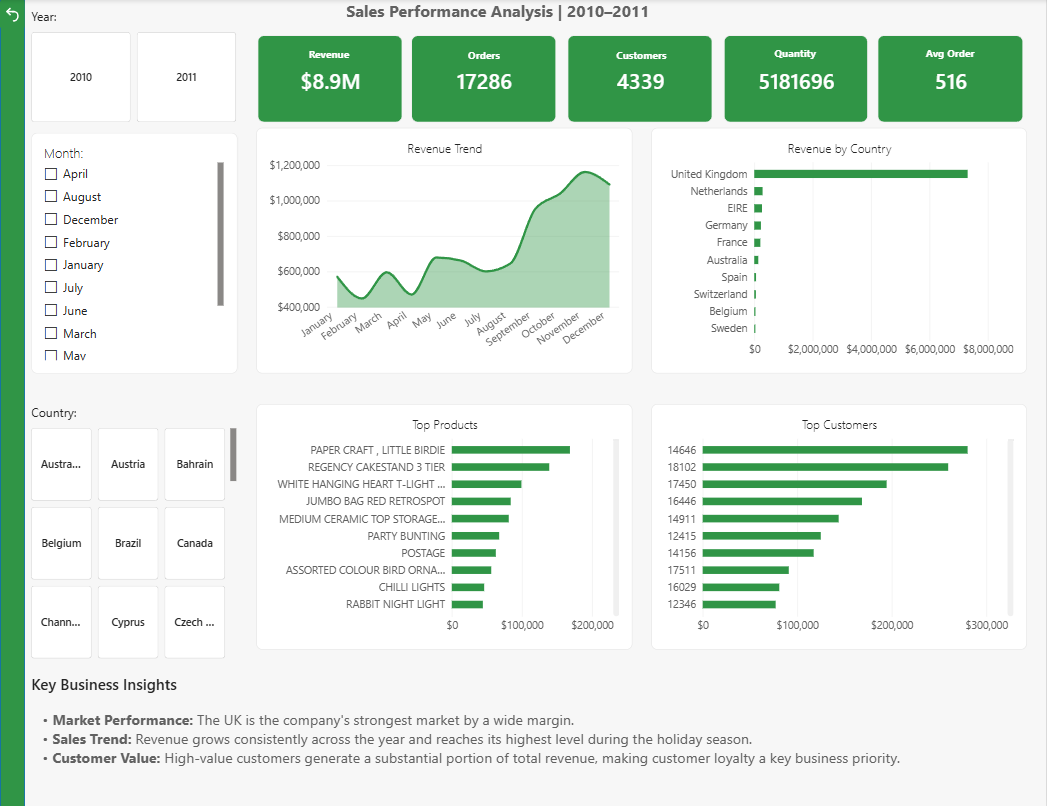

This screenshot's page, from the dashboard's own definition file:
{"tool":"powerbi","page":{"name":"E-Commerce Sales Executive Dashboard","canvas":[1380,1066],"ordinal":0},"visuals":[{"type":"shape","box":[0,0,32.9,1065.7],"z":0},{"type":"cardVisual","fields":{"Data":["Measure.Total revenue"]},"box":[338.8,47.5,191.2,115],"z":1000},{"type":"textbox","box":[355,62.5,158.8,25],"z":2000},{"type":"cardVisual","fields":{"Data":["Measure.Total order"]},"box":[542.9,47.1,191.8,115.8],"z":3000},{"type":"textbox","box":[558.8,63.8,158.8,23.8],"z":4000},{"type":"cardVisual","fields":{"Data":["Measure.Total Customers"]},"box":[748.8,47.5,191.2,115],"z":5000},{"type":"textbox","box":[766.2,63.8,158.8,25],"z":6000},{"type":"cardVisual","fields":{"Data":["Measure.Total Quantity Sold"]},"box":[953.8,47.5,190,115],"z":7000},{"type":"textbox","box":[968.8,61.2,158.8,25],"z":8000},{"type":"cardVisual","fields":{"Data":["Measure.Avarege Order Value"]},"box":[1157.5,47.5,192.5,115],"z":9000},{"type":"textbox","box":[1173.8,61.2,158.8,25],"z":10000},{"type":"areaChart","title":"Revenue Trend","fields":{"Category":["data.InvoiceDate.Variation.Date Hierarchy.Year","data.InvoiceDate.Variation.Date Hierarchy.Quarter","data.InvoiceDate.Variation.Date Hierarchy.Month","data.InvoiceDate.Variation.Date Hierarchy.Day"],"Y":["Measure.Total revenue"]},"box":[337.8,170.3,495.9,324.3],"z":11000},{"type":"barChart","title":"Revenue by Country","fields":{"Category":["data.Country"],"Y":["Measure.Total revenue"]},"box":[859.5,170.3,495,324.3],"z":12000},{"type":"barChart","title":"Top Products","fields":{"Category":["data.Description"],"Y":["Measure.Total revenue"]},"box":[337.8,533.8,495.9,324],"z":13000},{"type":"barChart","title":"Top Customers","fields":{"Category":["data.CustomerID"],"Y":["Measure.Total revenue"]},"box":[859.5,533.8,495,324],"z":14000},{"type":"advancedSlicerVisual","title":"Year:","fields":{"Values":["data.Year"]},"box":[40.5,10.8,271.6,151.4],"z":15000},{"type":"listSlicer","title":"Month:","fields":{"Values":["data.Month Name"]},"box":[40.5,177,271.6,317.6],"z":16000},{"type":"advancedSlicerVisual","title":"Country:","fields":{"Values":["data.Country"]},"box":[41.9,533.8,270.3,336.5],"z":17002},{"type":"textbox","title":"Key Business Insights","box":[41.7,890,1400,161.7],"z":17003},{"type":"actionButton","box":[0,0,32.9,40],"z":17004},{"type":"textbox","box":[456,0,776,54],"z":17005}]}

Visuals, with their boxes in screenshot pixels (x1, y1, x2, y2), scaled from the page's 1380x1066 canvas onto the 1047x806 screenshot:
shape: {"left": 0, "top": 0, "right": 25, "bottom": 805}
cardVisual - Measure.Total revenue: {"left": 257, "top": 36, "right": 402, "bottom": 123}
textbox: {"left": 269, "top": 47, "right": 390, "bottom": 66}
cardVisual - Measure.Total order: {"left": 412, "top": 36, "right": 557, "bottom": 123}
textbox: {"left": 424, "top": 48, "right": 544, "bottom": 66}
cardVisual - Measure.Total Customers: {"left": 568, "top": 36, "right": 713, "bottom": 123}
textbox: {"left": 581, "top": 48, "right": 702, "bottom": 67}
cardVisual - Measure.Total Quantity Sold: {"left": 724, "top": 36, "right": 868, "bottom": 123}
textbox: {"left": 735, "top": 46, "right": 856, "bottom": 65}
cardVisual - Measure.Avarege Order Value: {"left": 878, "top": 36, "right": 1024, "bottom": 123}
textbox: {"left": 891, "top": 46, "right": 1011, "bottom": 65}
"Revenue Trend" areaChart: {"left": 256, "top": 129, "right": 633, "bottom": 374}
"Revenue by Country" barChart: {"left": 652, "top": 129, "right": 1028, "bottom": 374}
"Top Products" barChart: {"left": 256, "top": 404, "right": 633, "bottom": 649}
"Top Customers" barChart: {"left": 652, "top": 404, "right": 1028, "bottom": 649}
"Year:" advancedSlicerVisual: {"left": 31, "top": 8, "right": 237, "bottom": 123}
"Month:" listSlicer: {"left": 31, "top": 134, "right": 237, "bottom": 374}
"Country:" advancedSlicerVisual: {"left": 32, "top": 404, "right": 237, "bottom": 658}
"Key Business Insights" textbox: {"left": 32, "top": 673, "right": 1046, "bottom": 795}
actionButton: {"left": 0, "top": 0, "right": 25, "bottom": 30}
textbox: {"left": 346, "top": 0, "right": 935, "bottom": 41}
